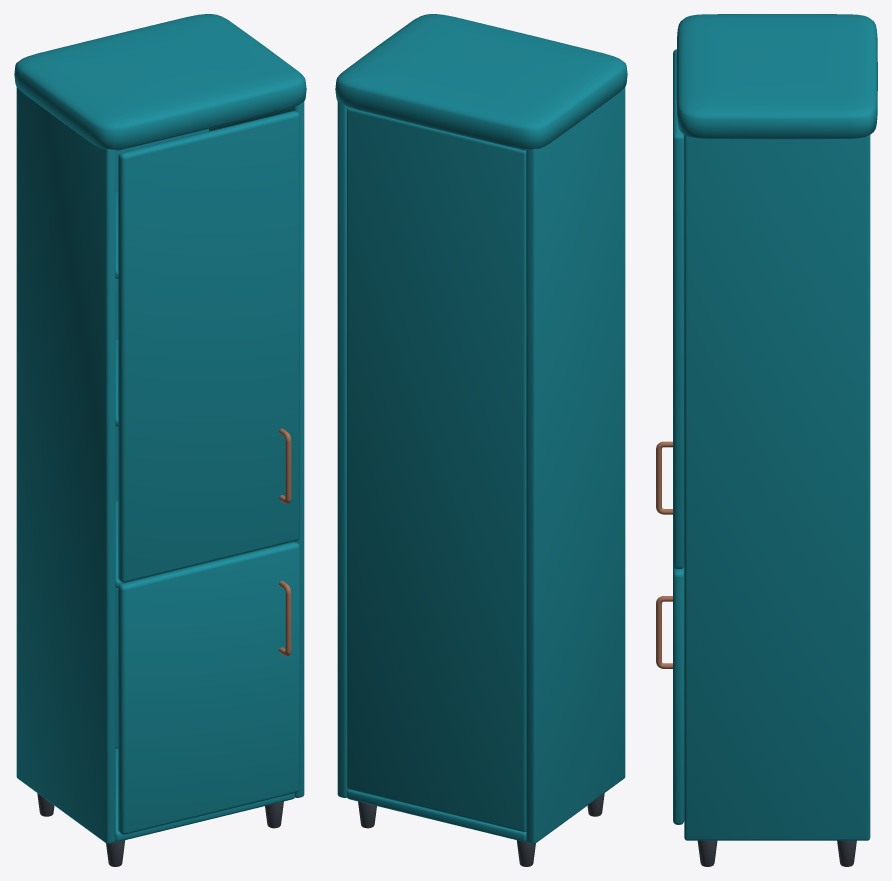
File: armario_alto_duas_portas_petroleo.glb
The picture shows the model from 3 angles, left to right: view 1: azimuth 30°, elevation 25°; view 2: azimuth 150°, elevation 25°; view 3: azimuth 270°, elevation 25°; orthographic projection.
Parts seen in each view (by area): view 1: armario_alto_duas_portas_petroleo, porta_2, porta_1; view 2: armario_alto_duas_portas_petroleo; view 3: armario_alto_duas_portas_petroleo, porta_2, porta_1.
Boxes of the visible parts, left/top/right/bottom form: armario_alto_duas_portas_petroleo: left=14, top=14, right=306, bottom=866; porta_2: left=118, top=111, right=299, bottom=582; porta_1: left=118, top=542, right=299, bottom=834; armario_alto_duas_portas_petroleo: left=335, top=14, right=627, bottom=866; armario_alto_duas_portas_petroleo: left=676, top=14, right=877, bottom=866; porta_2: left=656, top=49, right=684, bottom=569; porta_1: left=656, top=566, right=684, bottom=824.
Bounding box in the file's own units: 0.48 × 1.63 × 0.4298.
Materials: 1 (1 with a texture image).
